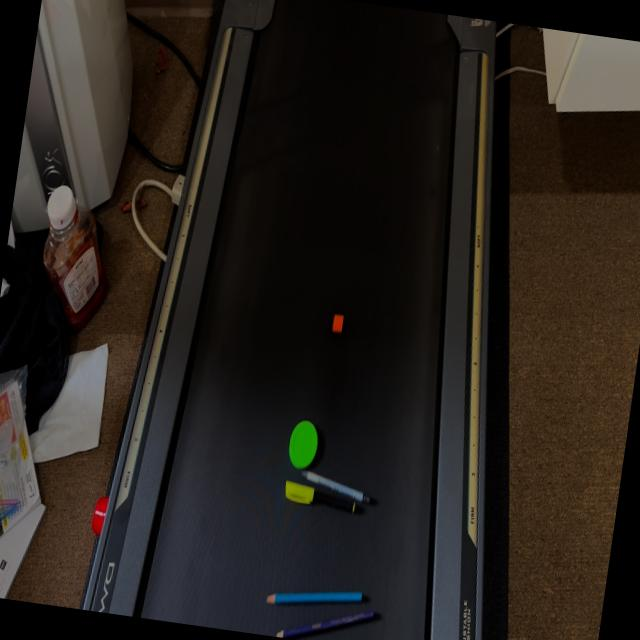Recycle: (285, 418, 321, 472), (332, 314, 344, 334)
Trash: (278, 595, 378, 640), (266, 578, 364, 620), (296, 467, 376, 508), (280, 478, 358, 514)
